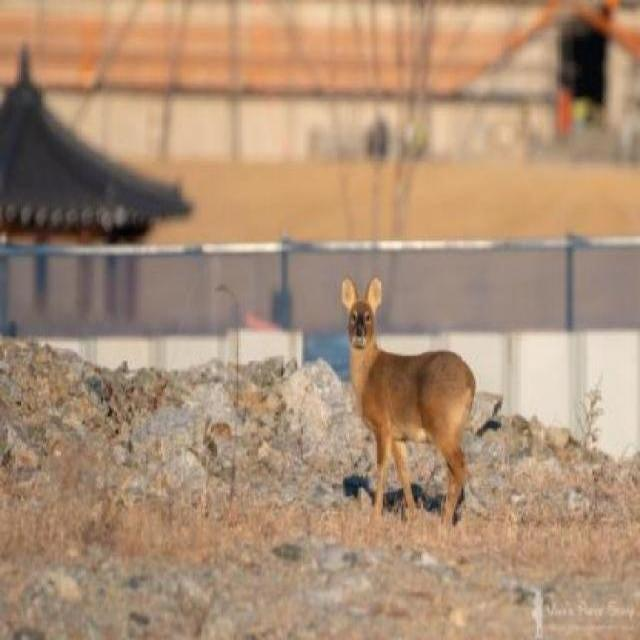deer: (340, 269, 478, 539)
